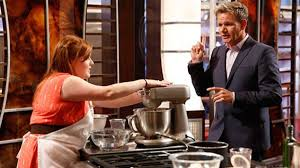Caution: (30, 1, 282, 126)
